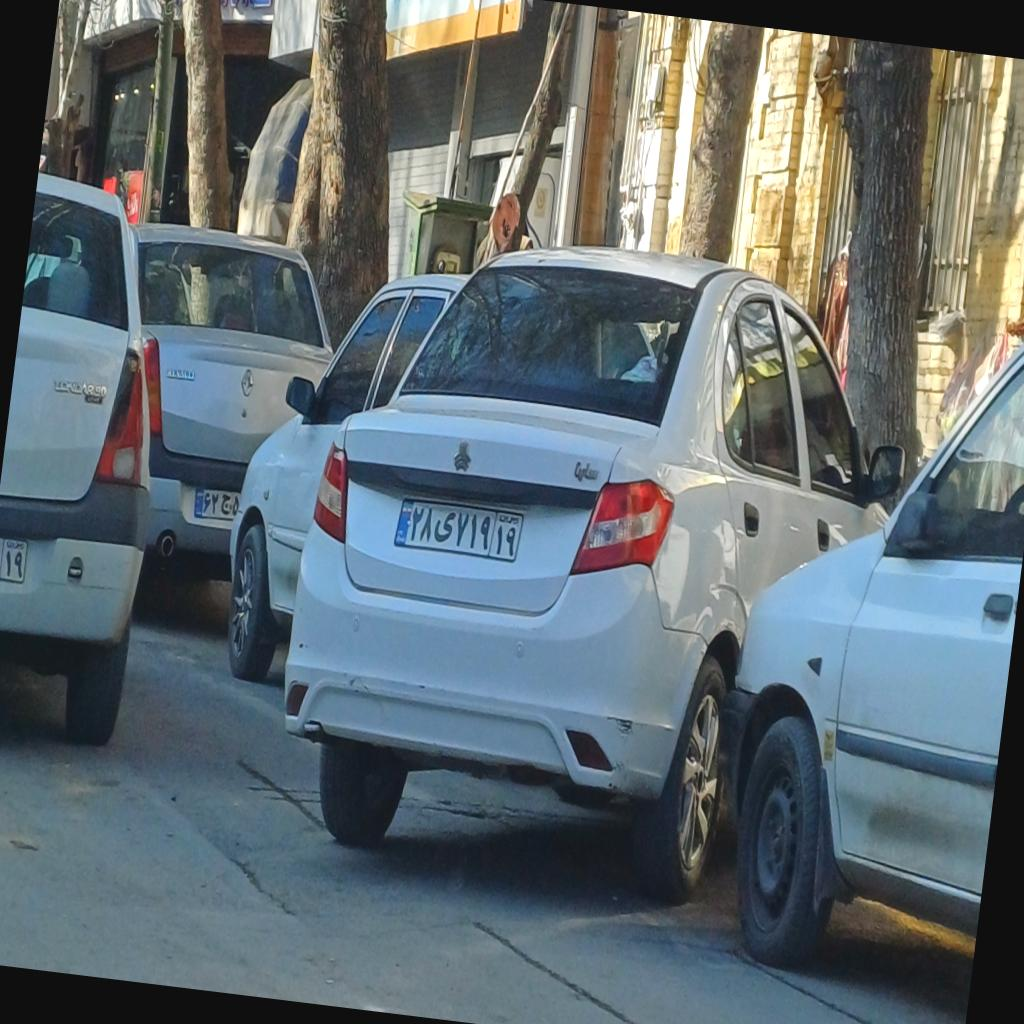Plates: (392, 497, 524, 560)
